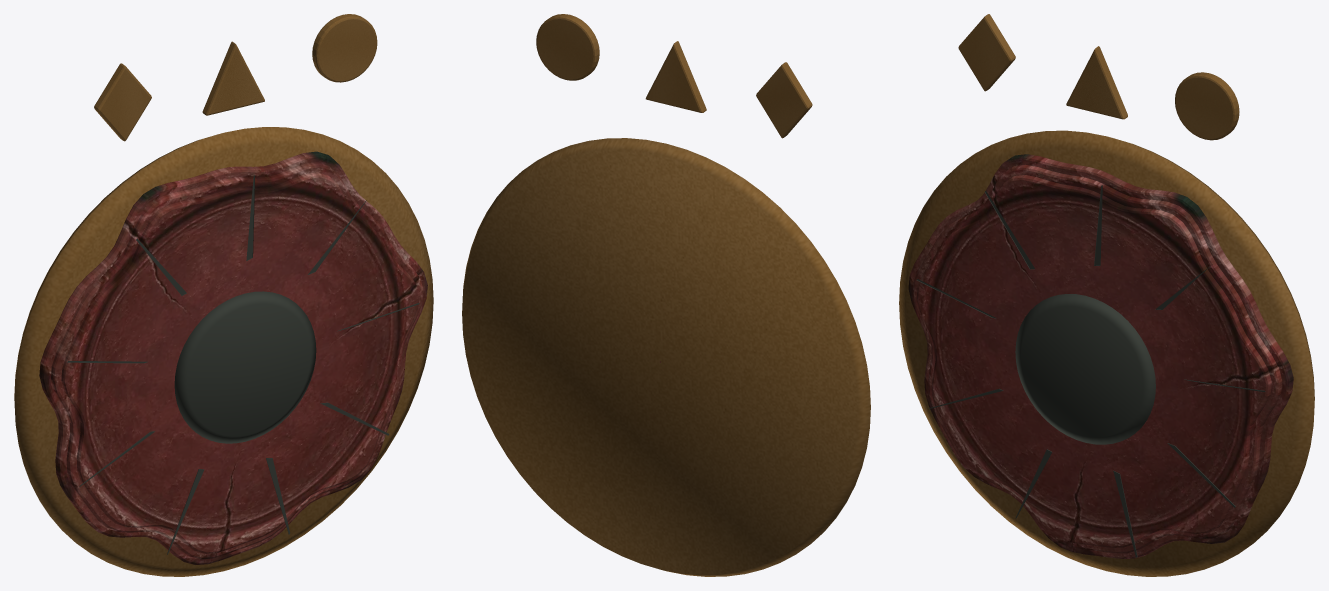
The model's file is library-seal.glb.
3 views of the same model, side by side, from view 1: azimuth 30°, elevation 25°; view 2: azimuth 150°, elevation 25°; view 3: azimuth 330°, elevation 25° (orthographic). The views are drawn at different scales.
Parts seen in each view (by area): view 1: Library irregular pressed wax, Library archive brass seal backing, Library wax hairline fracture, Library_seal_symbol_2, Library_seal_symbol_0, Library_seal_symbol_1; view 2: Library archive brass seal backing, Library_seal_symbol_2, Library_seal_symbol_0, Library_seal_symbol_1; view 3: Library irregular pressed wax, Library archive brass seal backing, Library wax hairline fracture, Library_seal_symbol_2, Library_seal_symbol_0, Library_seal_symbol_1.
Part boxes in pixels (x1,y1,x2,y2): Library irregular pressed wax: (39,151,427,564); Library archive brass seal backing: (14,127,433,576); Library wax hairline fracture: (67,175,419,554); Library_seal_symbol_2: (312,14,377,82); Library_seal_symbol_0: (94,63,151,141); Library_seal_symbol_1: (202,41,264,115); Library archive brass seal backing: (462,138,870,576); Library_seal_symbol_2: (536,14,599,80); Library_seal_symbol_0: (756,62,812,138); Library_seal_symbol_1: (645,41,706,112); Library irregular pressed wax: (908,154,1293,558); Library archive brass seal backing: (899,130,1314,576); Library wax hairline fracture: (916,185,1265,557); Library_seal_symbol_2: (1175,72,1239,140); Library_seal_symbol_0: (958,14,1015,91); Library_seal_symbol_1: (1066,46,1127,119).
Bounding box in the file's own units: 0.68 × 0.8386 × 0.088.
3 materials, 2 textured.
